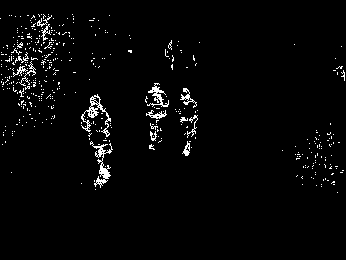person: (81, 93, 112, 189), (144, 82, 169, 152), (178, 87, 197, 157)
